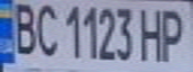1: (60, 1, 84, 60), (78, 1, 96, 60)
2: (97, 1, 118, 61)
3: (115, 2, 139, 62)
B: (6, 0, 42, 56)
C: (30, 0, 60, 58)
H: (136, 3, 169, 62)
P: (157, 5, 190, 62)
